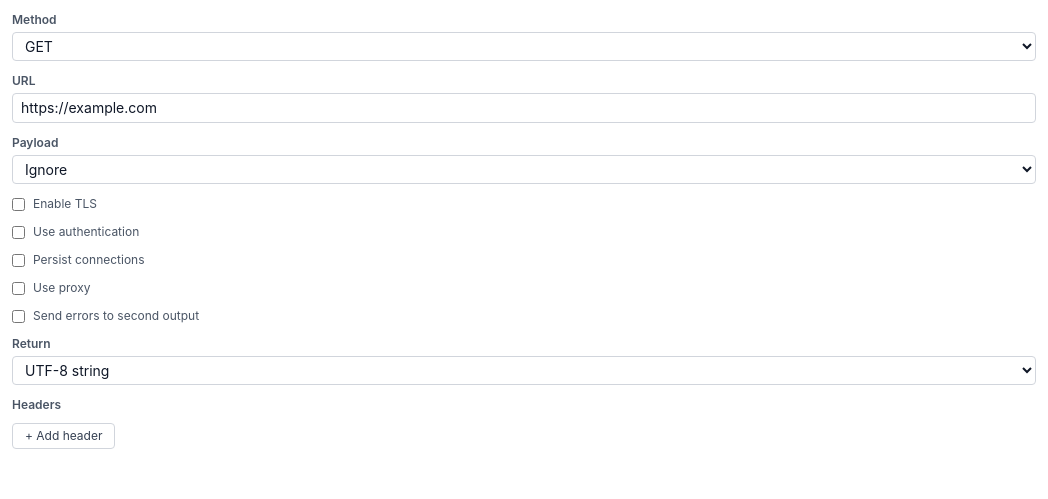
Test: HttpRequestEditor › toggles auth section on and off
This screenshot has width=1048, height=499.
// Check the auth checkbox
Click the checkbox with test id "httprequest-useauth" at (18, 232), box [12,226,25,238]
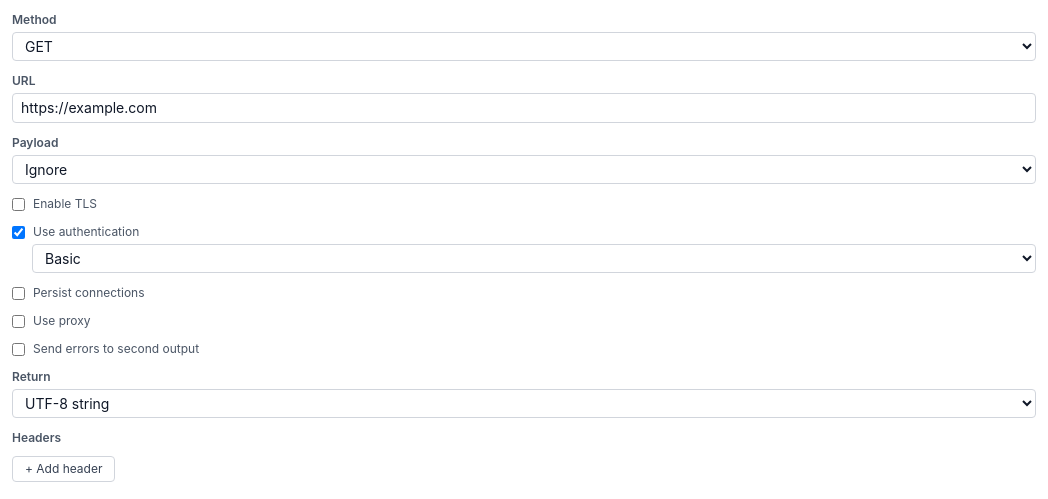
Check: the dropdown with test id "httprequest-authtype" is shown, box [32,244,1036,273]
